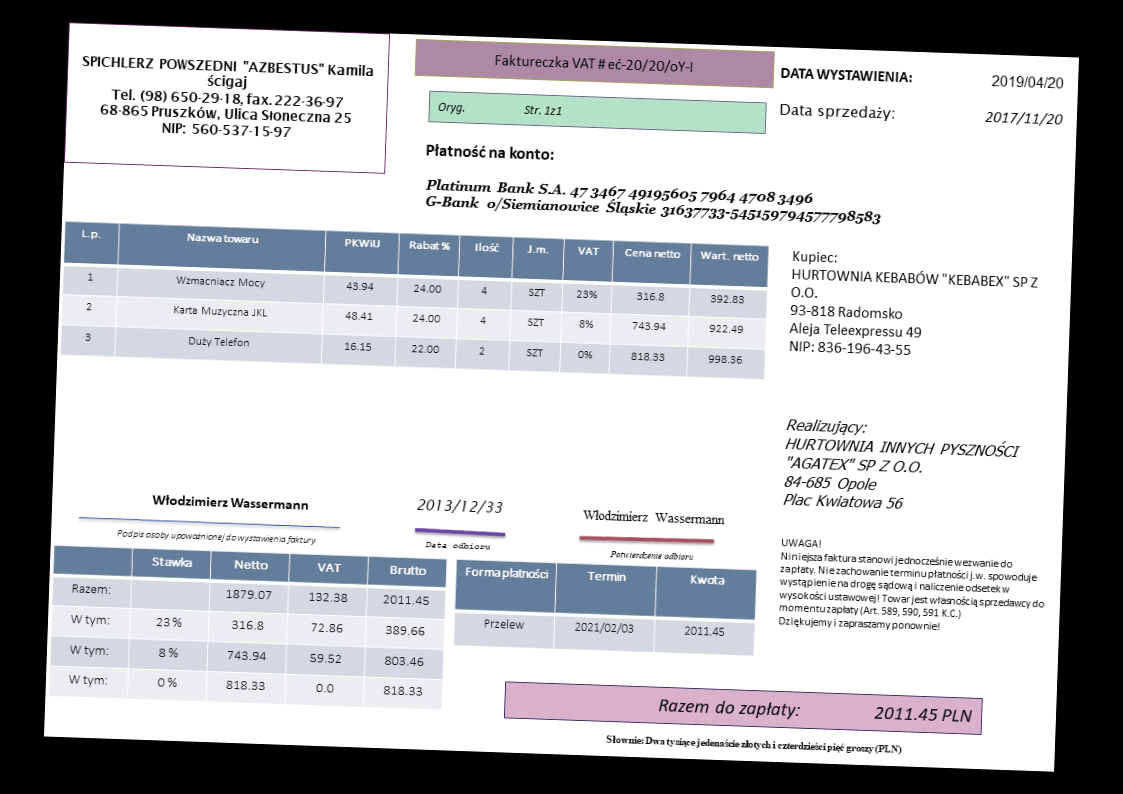Table: (58, 218, 772, 382), (47, 543, 449, 712), (451, 557, 760, 658)
TextBox: (786, 247, 1041, 365), (77, 51, 378, 145), (775, 535, 1051, 637), (779, 413, 1023, 520), (422, 174, 887, 230), (653, 693, 975, 729), (602, 730, 906, 758), (490, 50, 695, 77), (113, 525, 319, 548), (148, 488, 313, 515), (779, 61, 916, 88), (423, 139, 556, 166), (578, 505, 729, 528), (436, 97, 565, 120), (778, 100, 898, 124), (413, 494, 505, 517), (981, 106, 1065, 129), (989, 70, 1068, 91), (607, 547, 696, 564), (420, 535, 495, 554)
